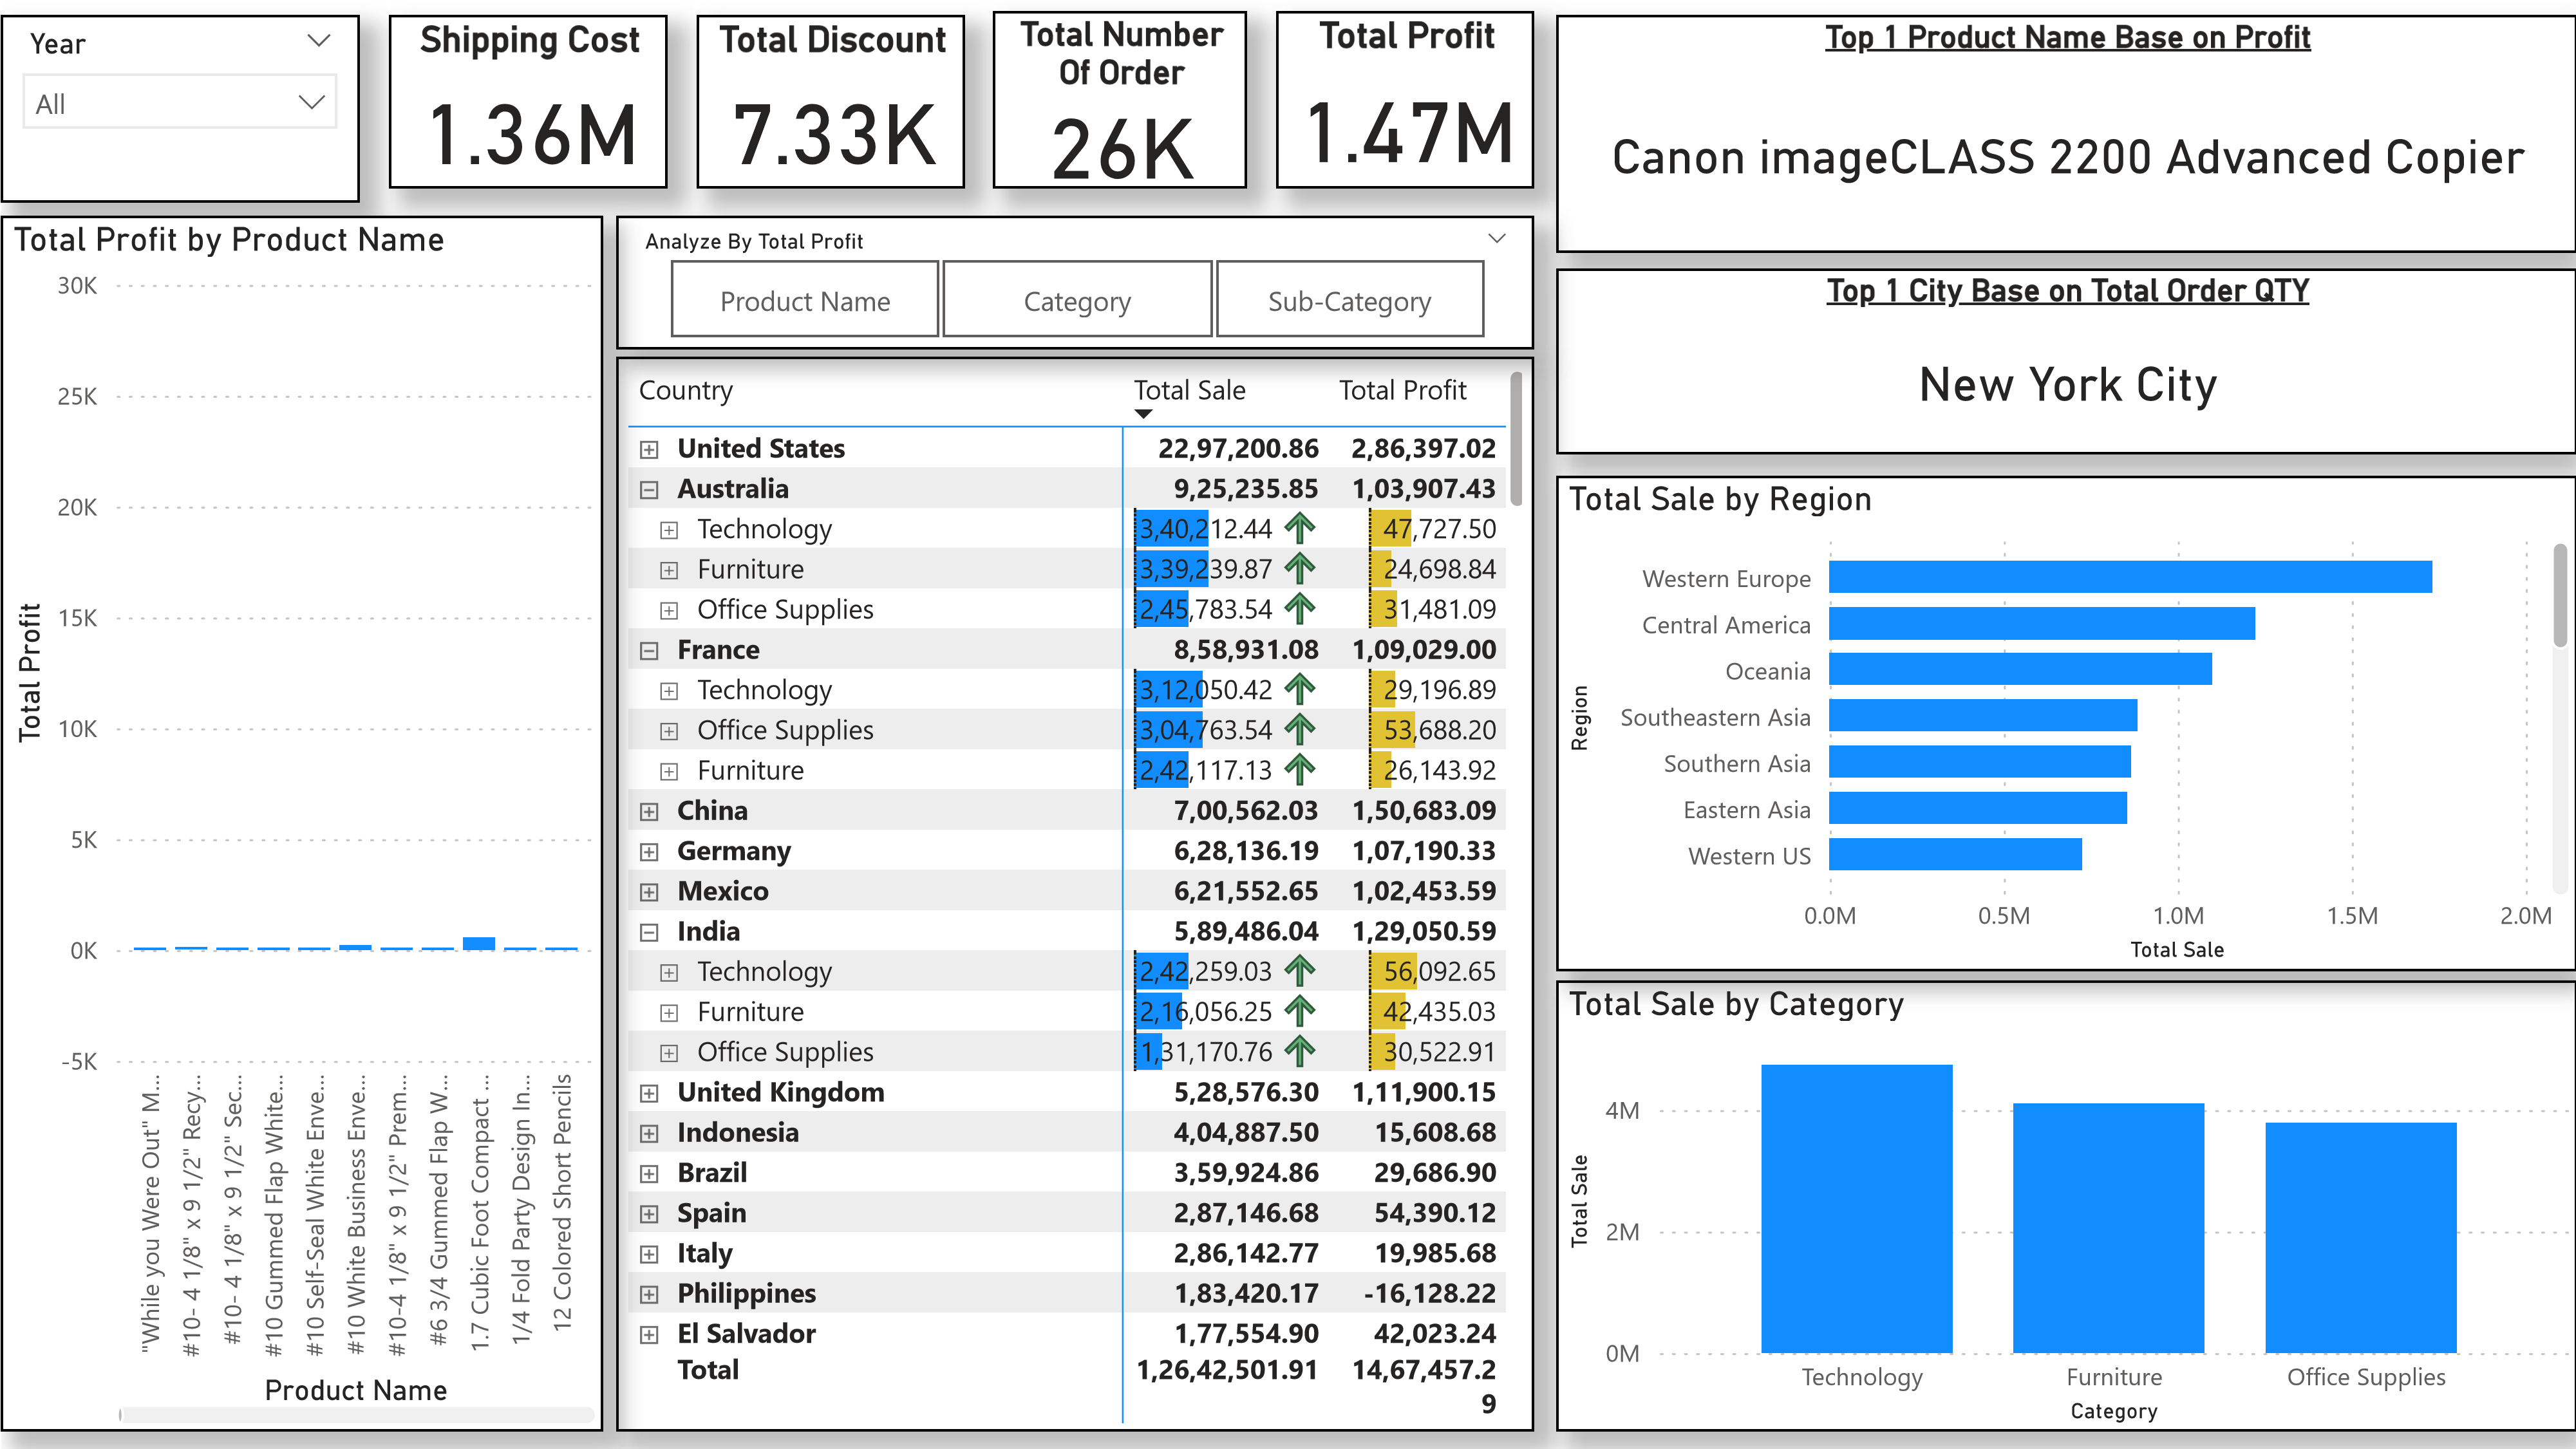

Layout of this report page (visuals, bound fields, positions):
{"tool":"powerbi","page":{"name":"Product Details","canvas":[1280,720],"ordinal":3},"visuals":[{"type":"slicer","fields":{"Values":["Calendar Using Dax.Year"]},"box":[0,6.9,178.4,93.3],"z":0},{"type":"card","title":"Shipping Cost","fields":{"Values":["Calculations.Shipping Cost"]},"box":[193.5,6.9,137.2,86.4],"z":1000},{"type":"card","title":"Total Discount","fields":{"Values":["Calculations.Total Discount"]},"box":[345.8,6.9,133.1,86.4],"z":2000},{"type":"card","title":"Total Number Of Order","fields":{"Values":["Calculations.Total Number of Order"]},"box":[492.6,5.5,126.2,87.8],"z":3000},{"type":"card","title":"Total Profit","fields":{"Values":["Calculations.Total Profit"]},"box":[634,5.5,127.6,87.8],"z":4000},{"type":"card","title":"Top 1 Product Name Base on Profit","fields":{"Values":["Min(Orders.Product Name)"]},"box":[772.6,6.9,507.7,118],"z":5000},{"type":"card","title":"Top 1 City Base on Total Order QTY","fields":{"Values":["Min(Orders.City)"]},"box":[772.6,133.1,507.7,91.9],"z":6000},{"type":"pivotTable","fields":{"Rows":["Orders.Country","Orders.Category","Orders.Sub-Category"],"Values":["Calculations.Total Sale","Calculations.Total Profit"]},"box":[306,177,455.6,533.8],"z":7000},{"type":"columnChart","fields":{"Category":["Orders.Category"],"Y":["Calculations.Total Sale"]},"box":[772.6,487.1,507.7,223.7],"z":8000},{"type":"barChart","fields":{"Y":["Calculations.Total Sale"],"Category":["Orders.Region"]},"box":[772.6,236,507.7,245.6],"z":9000},{"type":"slicer","fields":{"Values":["Analyze By Total Profit.Analyze By Total Profit"]},"box":[306,107,455.6,65.9],"z":10000},{"type":"clusteredColumnChart","fields":{"Category":["Orders.Product Name","Orders.Category","Orders.Sub-Category"],"Y":["Calculations.Total Profit"]},"box":[0,107,299.1,603.8],"z":11000}]}

Visuals, with their boxes in screenshot pixels (x1, y1, x2, y2), scaled from the page's 1280x720 canvas onto the 2576x1449 screenshot:
slicer - Calendar Using Dax.Year: left=0, top=14, right=359, bottom=201
"Shipping Cost" card: left=390, top=14, right=666, bottom=188
"Total Discount" card: left=696, top=14, right=964, bottom=188
"Total Number Of Order" card: left=992, top=11, right=1245, bottom=188
"Total Profit" card: left=1276, top=11, right=1533, bottom=188
"Top 1 Product Name Base on Profit" card: left=1555, top=14, right=2575, bottom=251
"Top 1 City Base on Total Order QTY" card: left=1555, top=268, right=2575, bottom=453
pivotTable - Orders.Country x Orders.Category: left=616, top=356, right=1533, bottom=1430
columnChart - Orders.Category x Calculations.Total Sale: left=1555, top=980, right=2575, bottom=1430
barChart - Calculations.Total Sale x Orders.Region: left=1555, top=475, right=2575, bottom=969
slicer - Analyze By Total Profit.Analyze By Total Profit: left=616, top=216, right=1533, bottom=348
clusteredColumnChart - Orders.Product Name x Orders.Category: left=0, top=216, right=602, bottom=1430
